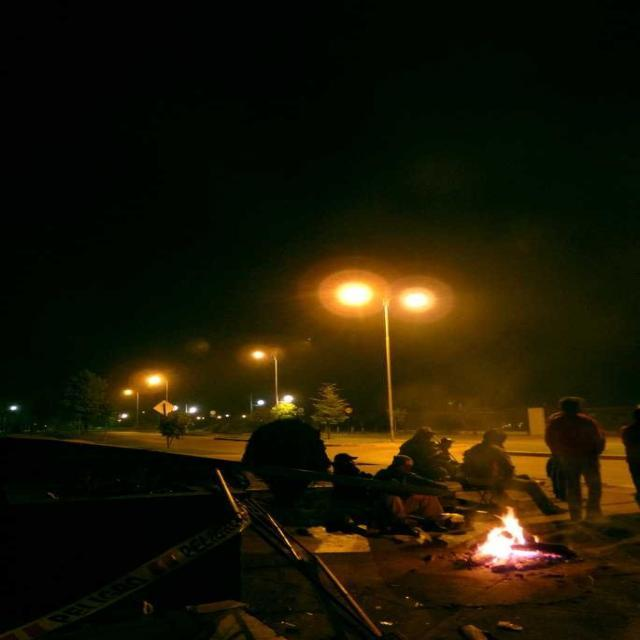Fire: (477, 511, 561, 584)
